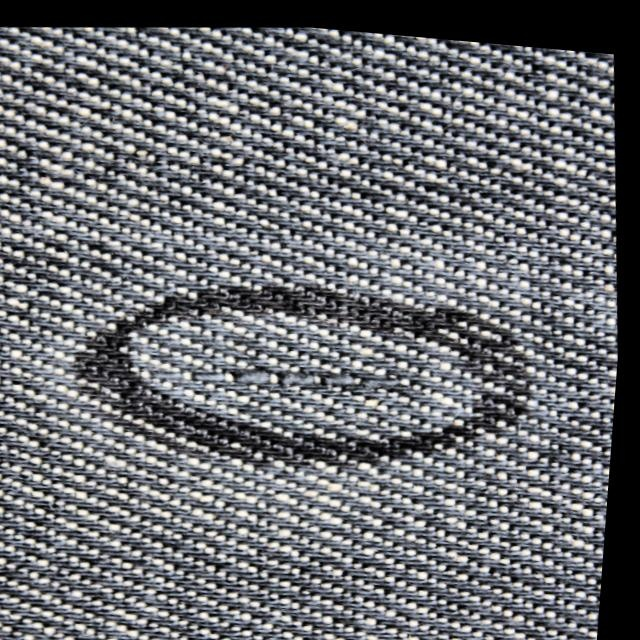Hole: (144, 344, 417, 410)
